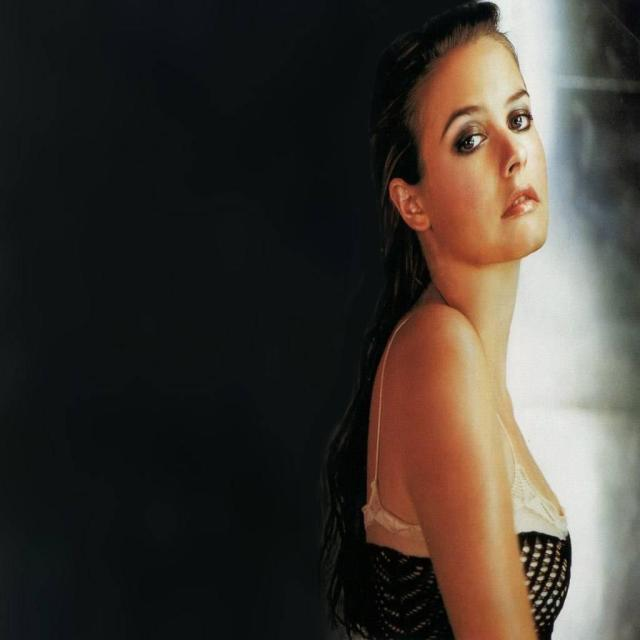no-earmuff: (382, 170, 443, 255)
